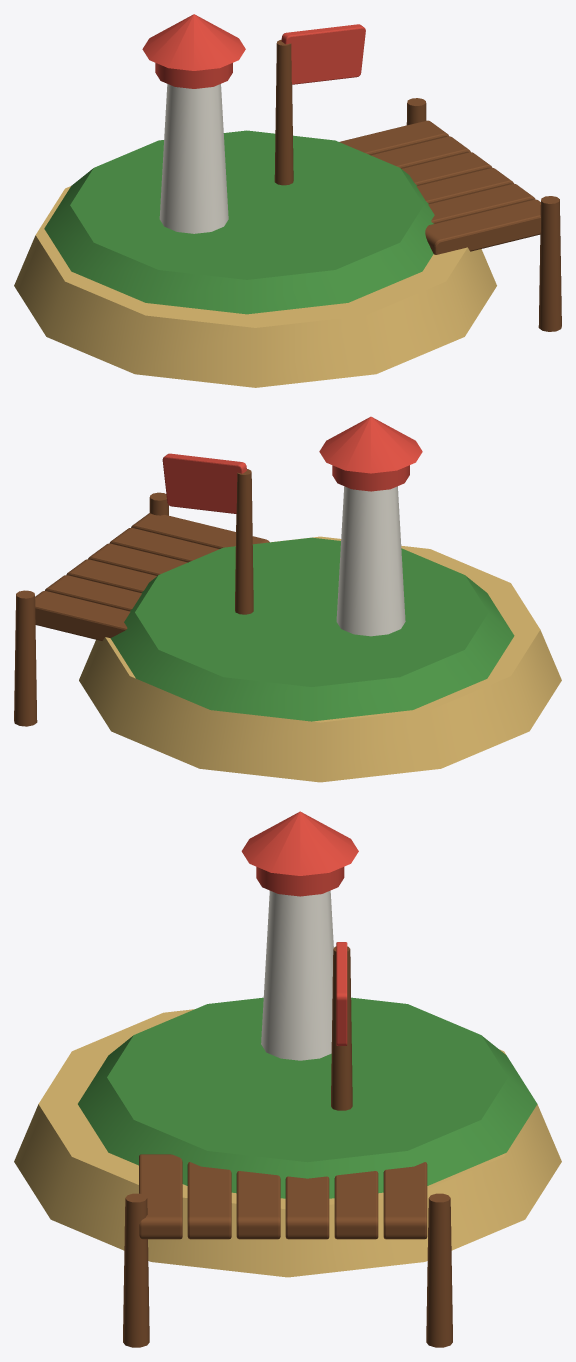
Rendered from rescue-dock.glb.
3 views of the same model, one above another, from view 1: azimuth 30°, elevation 25°; view 2: azimuth 150°, elevation 25°; view 3: azimuth 270°, elevation 25° (orthographic). The views are drawn at different scales.
Visible parts, largest first — view 1: RescueDock_IslandGrass_1, RescueDock_TropicalSand_0, RescueDock_DockWood_2, RescueBeacon, RescueDock_BeaconRed_3; view 2: RescueDock_IslandGrass_1, RescueDock_TropicalSand_0, RescueDock_DockWood_2, RescueBeacon, RescueDock_BeaconRed_3; view 3: RescueDock_IslandGrass_1, RescueDock_TropicalSand_0, RescueDock_DockWood_2, RescueBeacon, RescueDock_BeaconRed_3.
Boxes of the visible parts, x1,y1,x2,y2 form: RescueDock_IslandGrass_1: [44, 130, 434, 314]; RescueDock_TropicalSand_0: [14, 186, 496, 387]; RescueDock_DockWood_2: [274, 39, 561, 331]; RescueBeacon: [142, 14, 245, 233]; RescueDock_BeaconRed_3: [281, 24, 365, 84]; RescueDock_IslandGrass_1: [110, 537, 514, 721]; RescueDock_TropicalSand_0: [79, 536, 561, 782]; RescueDock_DockWood_2: [14, 469, 269, 726]; RescueBeacon: [319, 416, 422, 636]; RescueDock_BeaconRed_3: [162, 453, 246, 513]; RescueDock_IslandGrass_1: [78, 997, 537, 1198]; RescueDock_TropicalSand_0: [14, 1009, 561, 1277]; RescueDock_DockWood_2: [123, 946, 452, 1347]; RescueBeacon: [241, 811, 358, 1060]; RescueDock_BeaconRed_3: [336, 942, 347, 1045].
Size of the model in its own units: 2.39 by 1.69 by 2.24.
